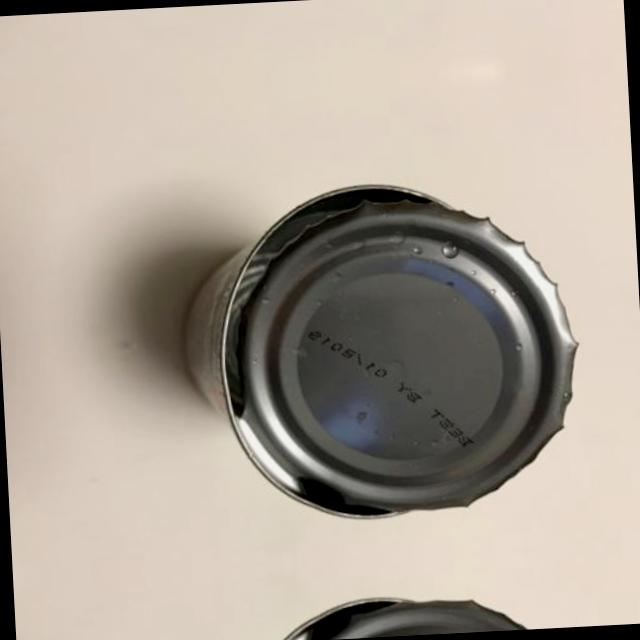Metal: (162, 163, 606, 544), (184, 569, 611, 640)
